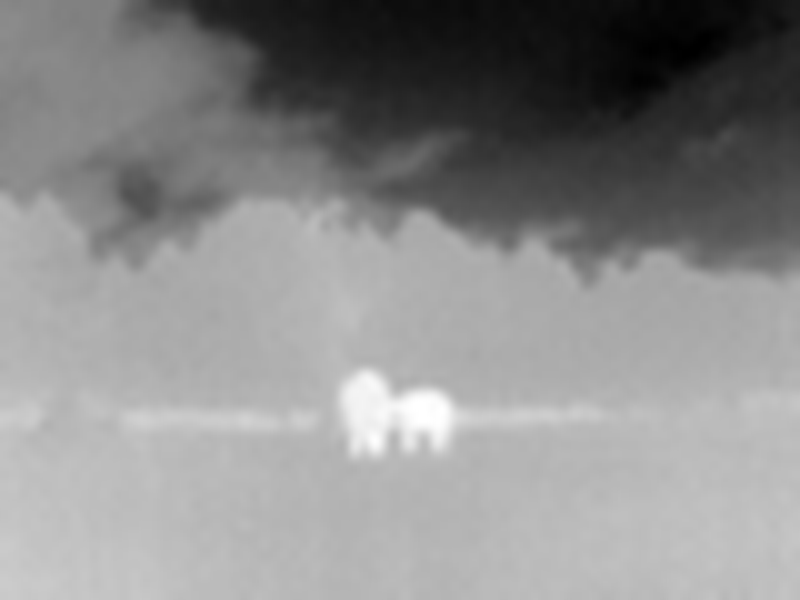elephant: (314, 371, 469, 464)
